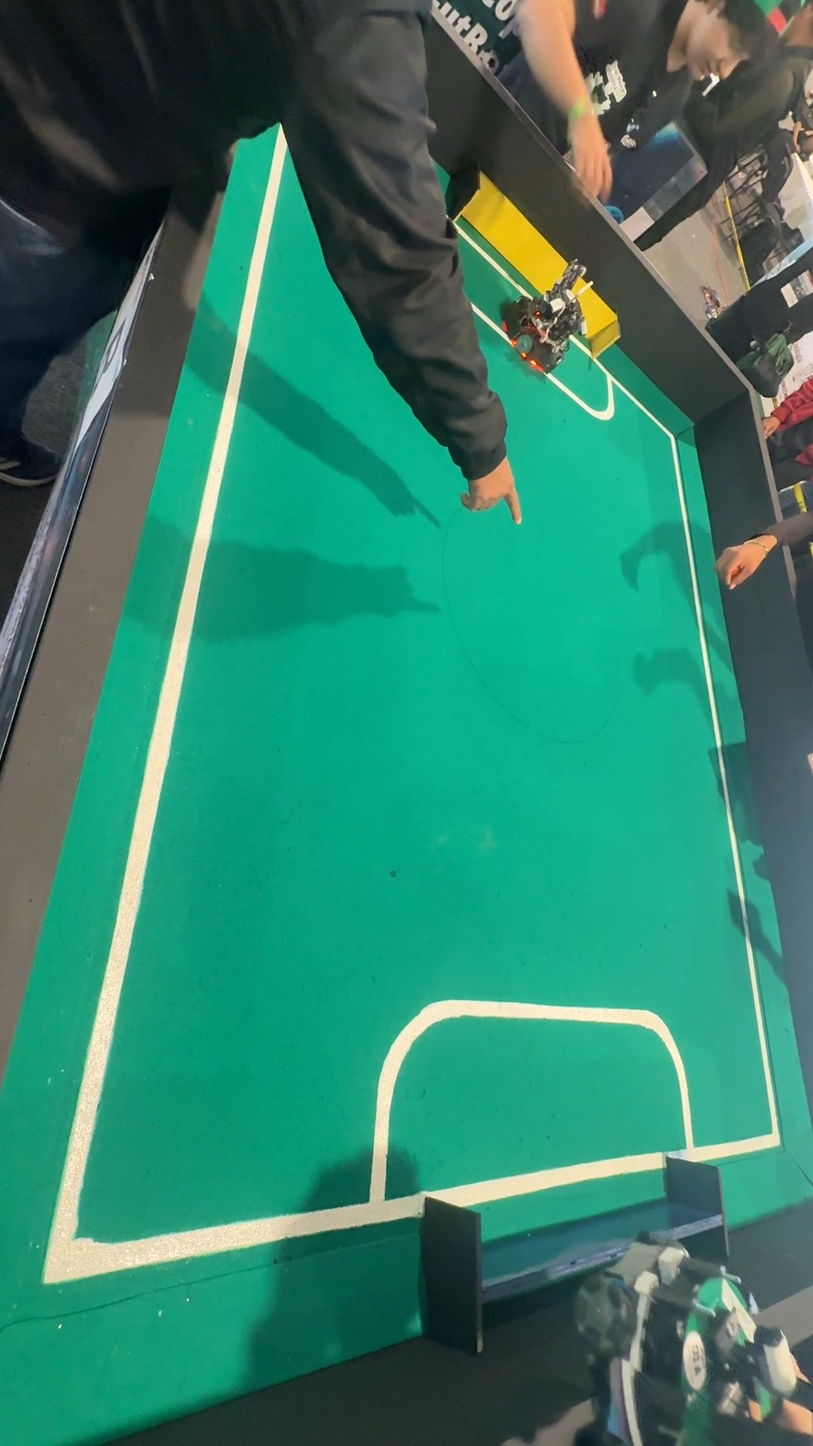Robot: (499, 257, 592, 391)
